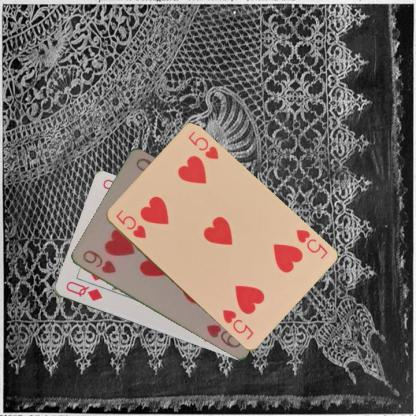5h: (293, 226, 329, 260), (113, 207, 147, 240)
9h: (80, 247, 117, 275)
Qd: (63, 278, 103, 303)
